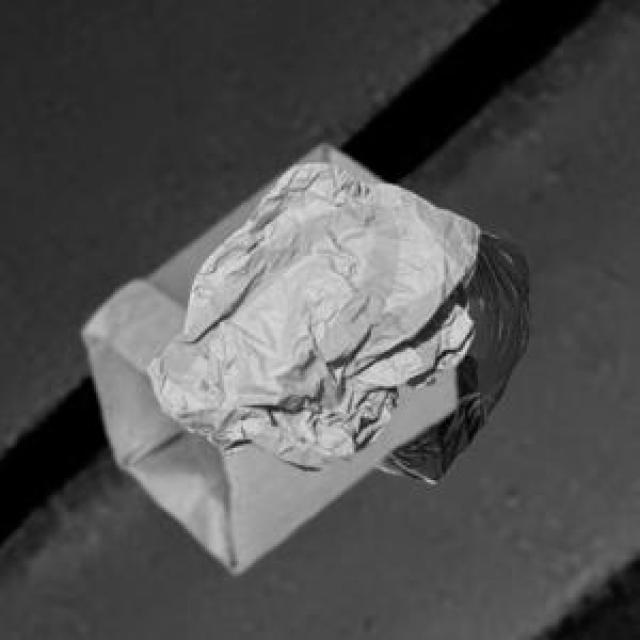miscellaneous trash: (369, 227, 525, 478)
paper: (79, 141, 452, 568), (143, 160, 476, 467)
